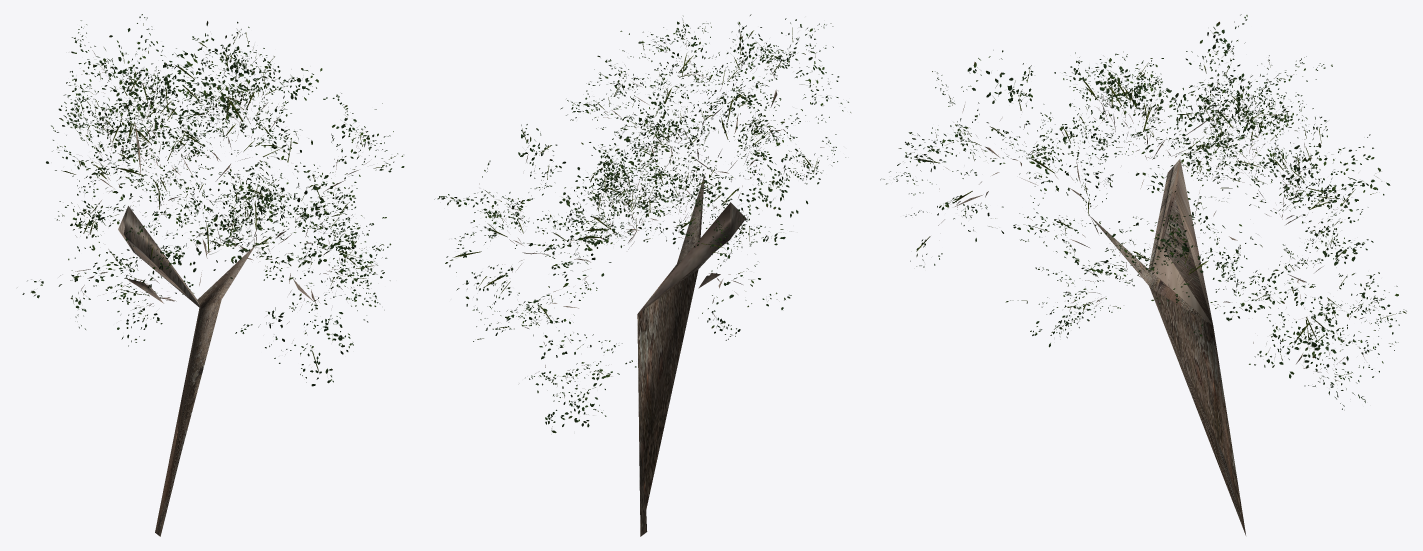
Rendered from tree_small_02_full.glb.
3 views of the same model, side by side, from view 1: azimuth 30°, elevation 25°; view 2: azimuth 150°, elevation 25°; view 3: azimuth 270°, elevation 25° (orthographic). The views are drawn at different scales.
Visible parts, largest first — view 1: tree_small_02_full; view 2: tree_small_02_full; view 3: tree_small_02_full.
Part boxes in pixels (left/top/right/bottom): tree_small_02_full: left=22, top=14, right=404, bottom=536; tree_small_02_full: left=434, top=14, right=850, bottom=536; tree_small_02_full: left=880, top=14, right=1406, bottom=535.
Size of the model in its own units: 2.89 by 4.3 by 4.27.
3 materials, 3 textured.
